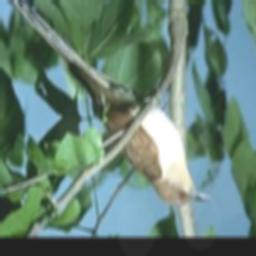Cuckoo: (2, 0, 217, 210)
